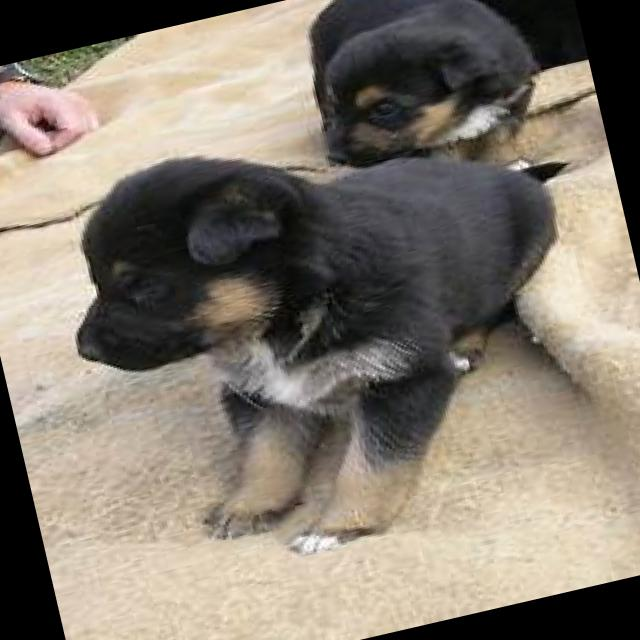dog: (39, 73, 622, 595), (291, 0, 562, 198)
